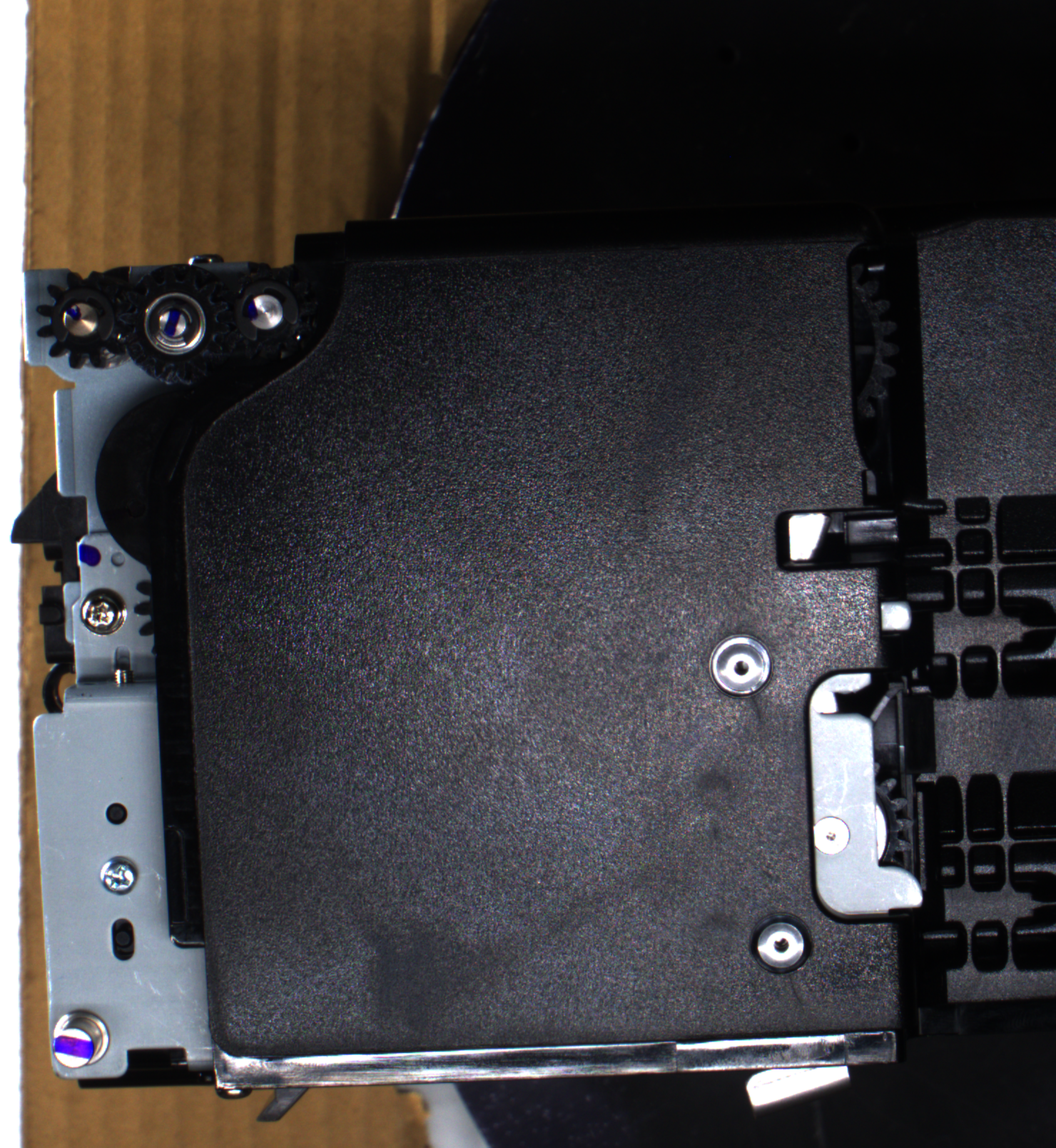centre_pin_presence: (740, 1047, 856, 1113)
centre_plate_presence: (802, 662, 932, 930)
centre_screw_presence: (704, 627, 777, 704), (744, 907, 816, 980)
gear1_presence: (35, 268, 136, 370)
gear2_presence: (118, 264, 232, 385)
gear3_presence: (212, 262, 314, 364)
side_screw_presence: (76, 584, 129, 637), (96, 854, 141, 896)
slanting_pin_presence: (46, 1005, 118, 1075)
